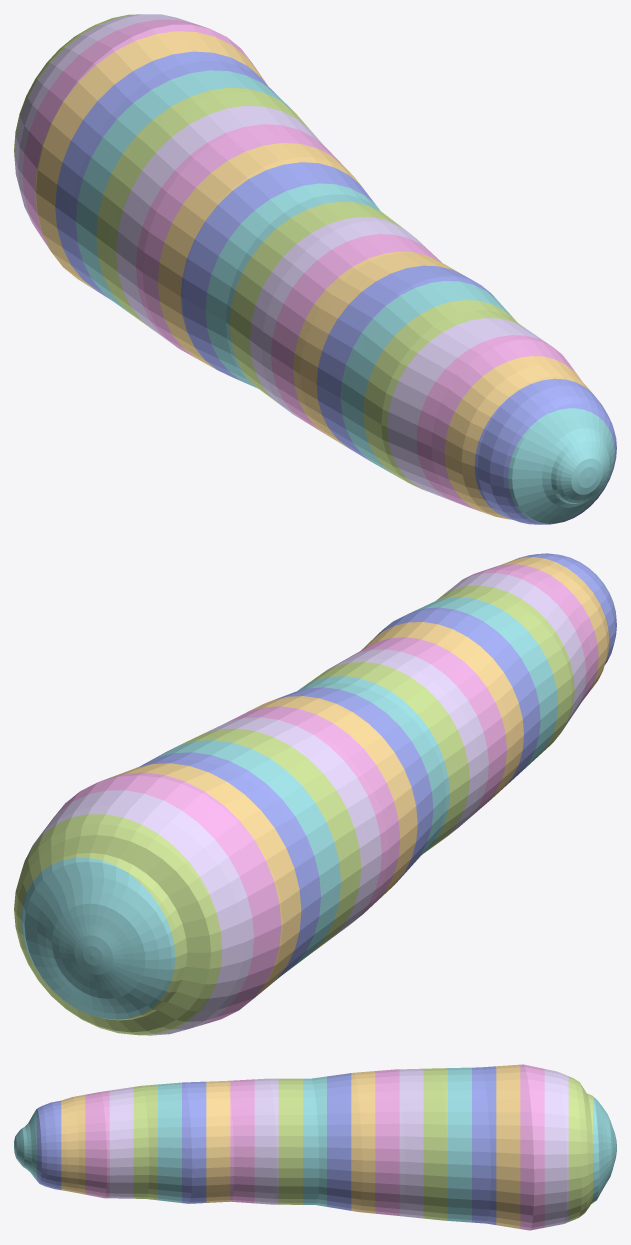
Rendered from VB_Pancreas 22x4 cut and colored.glb.
3 renders of one model, top to bottom at view 1: azimuth 30°, elevation 25°; view 2: azimuth 150°, elevation 25°; view 3: azimuth 270°, elevation 25°, orthographic. The views are drawn at different scales.
Visible parts, largest first — view 1: CLR_14D, PCMC_21D, CLR_20B_2, FCMC_16D, PCMC_15D, PE_19D, RNA_18D, FF_17D, PE_13D, FF_5D, FCMC_10D, FF_11D (+46 smaller); view 2: PE_25, RNA_24D, FF_23D, FCMC_22D, PE_19D, RNA_18D, PCMC_21D, FF_17D, CLR_20B_2, RNA_24C, RNA_24A, FCMC_16D (+30 smaller); view 3: FCMC_22A, PCMC_21A, FF_23A, CLR_20A, RNA_18A, PE_19A, FF_17A, FCMC16A, RNA_24A, PCMC_15A, CLR_14A, RNA_12A (+53 smaller).
Part boxes in pixels (<box>): CLR_14D: <box>181,162,321,310</box>; PCMC_21D: <box>35,34,177,206</box>; CLR_20B_2: <box>55,53,197,221</box>; FCMC_16D: <box>136,124,280,281</box>; PCMC_15D: <box>158,143,300,296</box>; PE_19D: <box>76,72,218,236</box>; RNA_18D: <box>96,89,238,251</box>; FF_17D: <box>116,106,259,266</box>; PE_13D: <box>205,183,342,324</box>; FF_5D: <box>387,318,506,439</box>; FCMC_10D: <box>271,234,403,369</box>; FF_11D: <box>250,217,383,354</box>; PE_25: <box>21,857,175,1019</box>; RNA_24D: <box>106,818,222,956</box>; FF_23D: <box>125,794,253,949</box>; FCMC_22D: <box>145,775,281,937</box>; PE_19D: <box>204,741,340,896</box>; RNA_18D: <box>224,729,361,882</box>; PCMC_21D: <box>165,765,301,925</box>; FF_17D: <box>244,717,381,867</box>; CLR_20B_2: <box>185,754,320,910</box>; RNA_24C: <box>108,949,222,1035</box>; RNA_24A: <box>14,814,124,919</box>; FCMC_16D: <box>263,706,400,853</box>; FCMC_22A: <box>520,1072,544,1182</box>; PCMC_21A: <box>496,1072,520,1181</box>; FF_23A: <box>544,1075,568,1181</box>; CLR_20A: <box>472,1075,496,1178</box>; RNA_18A: <box>423,1078,447,1176</box>; PE_19A: <box>448,1077,471,1177</box>; FF_17A: <box>399,1080,423,1174</box>; FCMC16A: <box>375,1081,399,1173</box>; RNA_24A: <box>568,1081,592,1179</box>; PCMC_15A: <box>351,1083,375,1172</box>; CLR_14A: <box>327,1086,351,1170</box>; RNA_12A: <box>278,1091,302,1168</box>.
Size of the model in its own units: 49.6 by 49.42 by 179.
